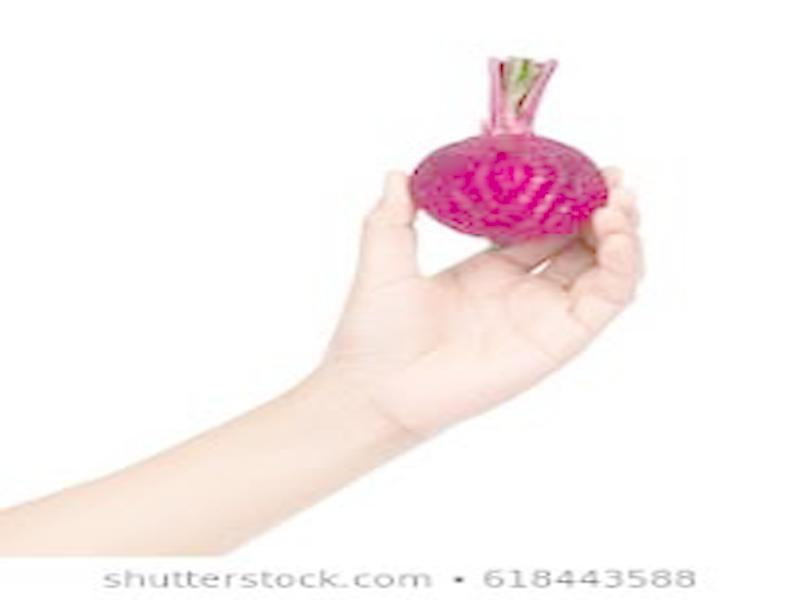Beet: (410, 56, 613, 244)
